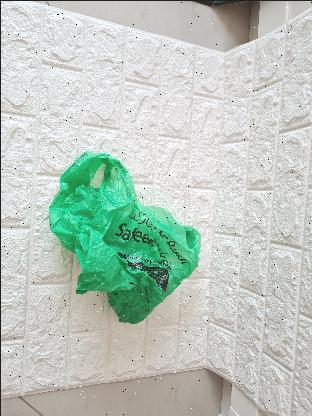Others: (43, 143, 199, 329)
